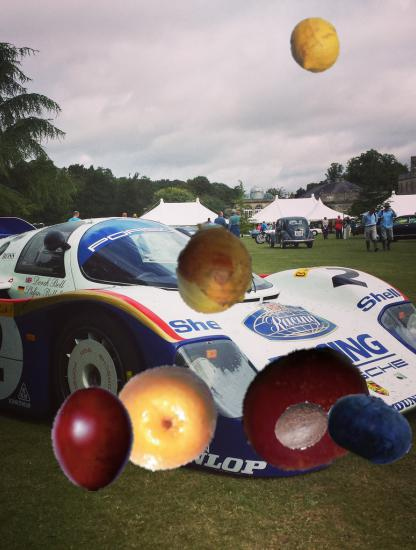Blueberry: (326, 383, 415, 472)
Cocos: (274, 397, 331, 454)
Kumquats: (109, 363, 220, 474)
Lemon: (287, 17, 343, 73)
Nectarine: (240, 342, 372, 474)
Onion: (169, 225, 261, 317)
Tamarillo: (35, 375, 151, 491)
